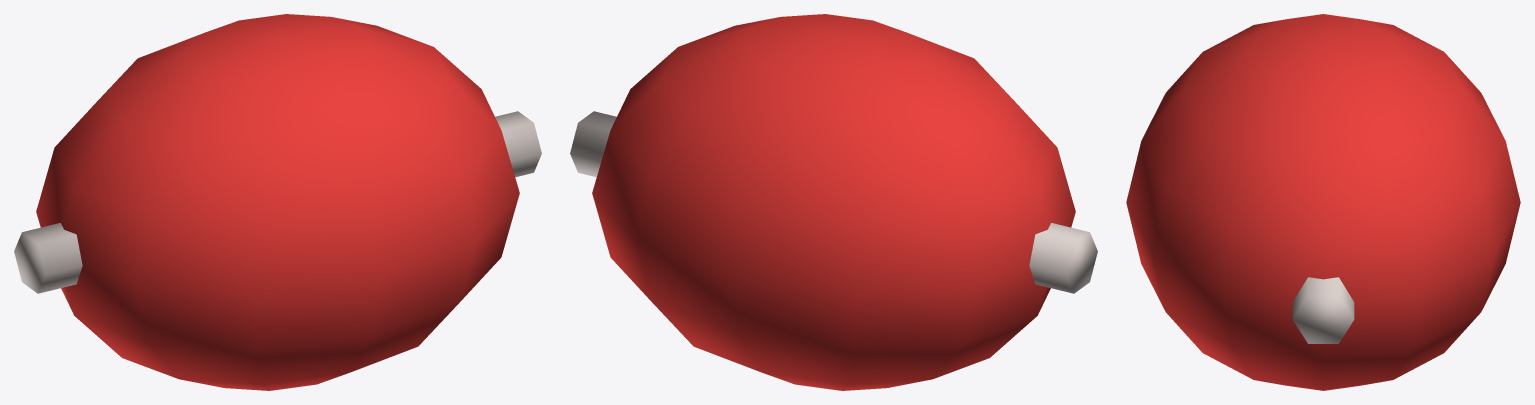
The model's file is Float.glb.
3 renders of one model, left to right at view 1: azimuth 30°, elevation 25°; view 2: azimuth 150°, elevation 25°; view 3: azimuth 270°, elevation 25°, orthographic. The views are drawn at different scales.
Visible parts, largest first — view 1: Float; view 2: Float; view 3: Float.
Boxes of the visible parts, x1,y1,x2,y2 form: Float: (14, 14, 541, 390); Float: (570, 14, 1097, 390); Float: (1126, 14, 1520, 390).
Bounding box in the file's own units: 0.9 × 0.576 × 0.64.
